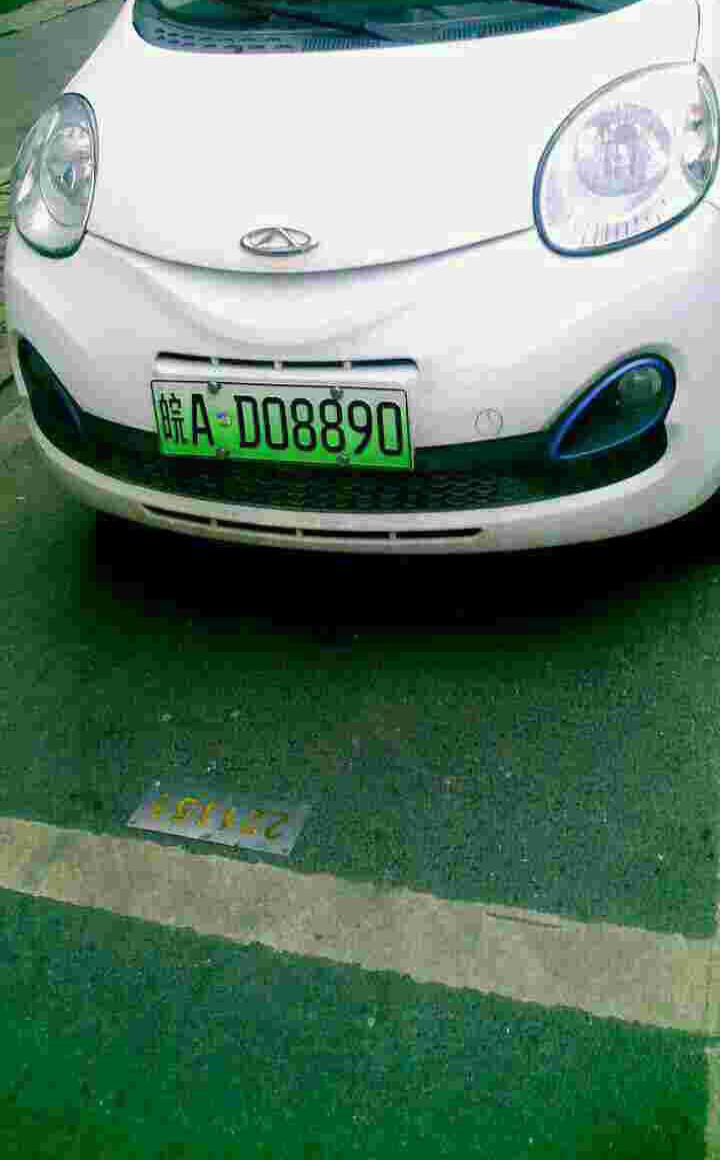car_id: (148, 380, 416, 469)
